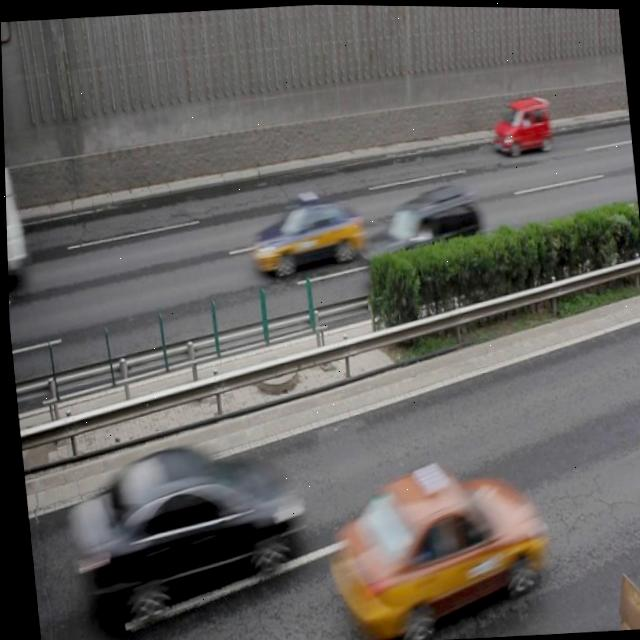car: (316, 450, 546, 640), (88, 433, 303, 621), (244, 192, 365, 279), (488, 94, 551, 155)
truck: (354, 179, 488, 290)
